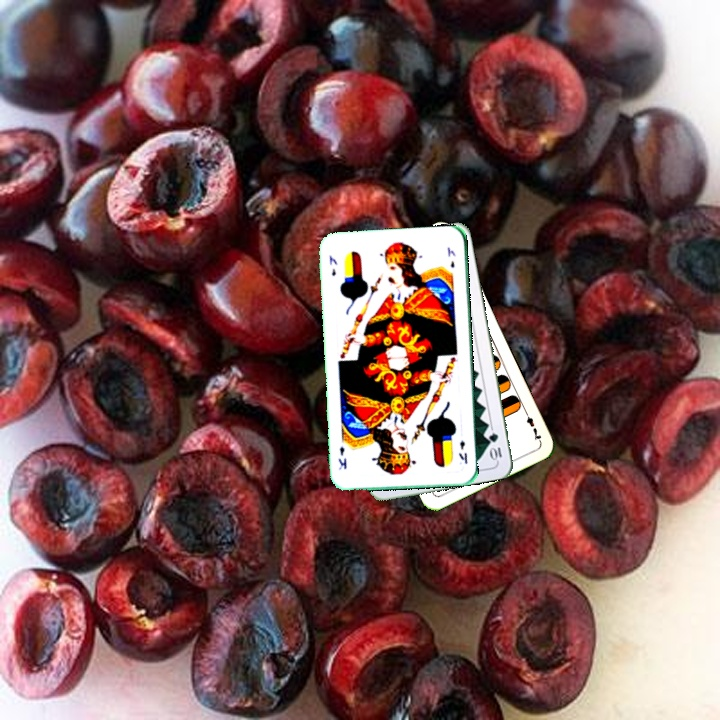E7: (520, 405, 544, 444)
EK: (454, 436, 470, 466), (325, 251, 340, 278)
G10: (485, 429, 504, 463)
